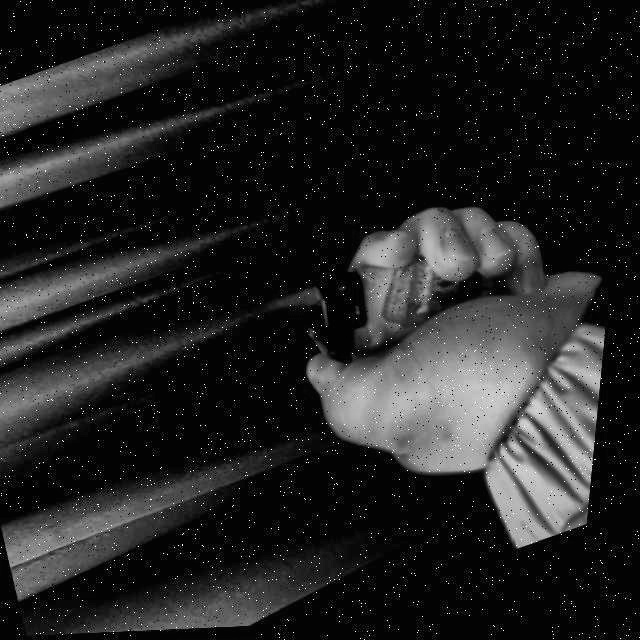Fire: (262, 281, 328, 326)
